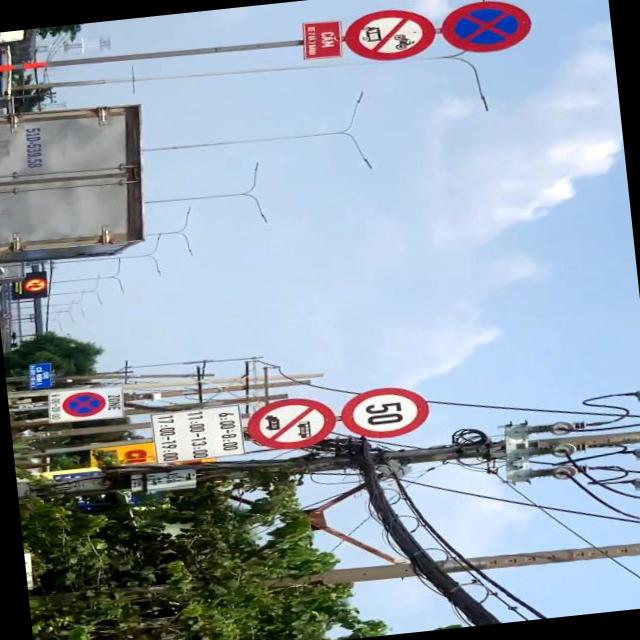P-104: (343, 3, 435, 67)
P-127: (338, 382, 429, 441)
P-130: (436, 0, 533, 56)
